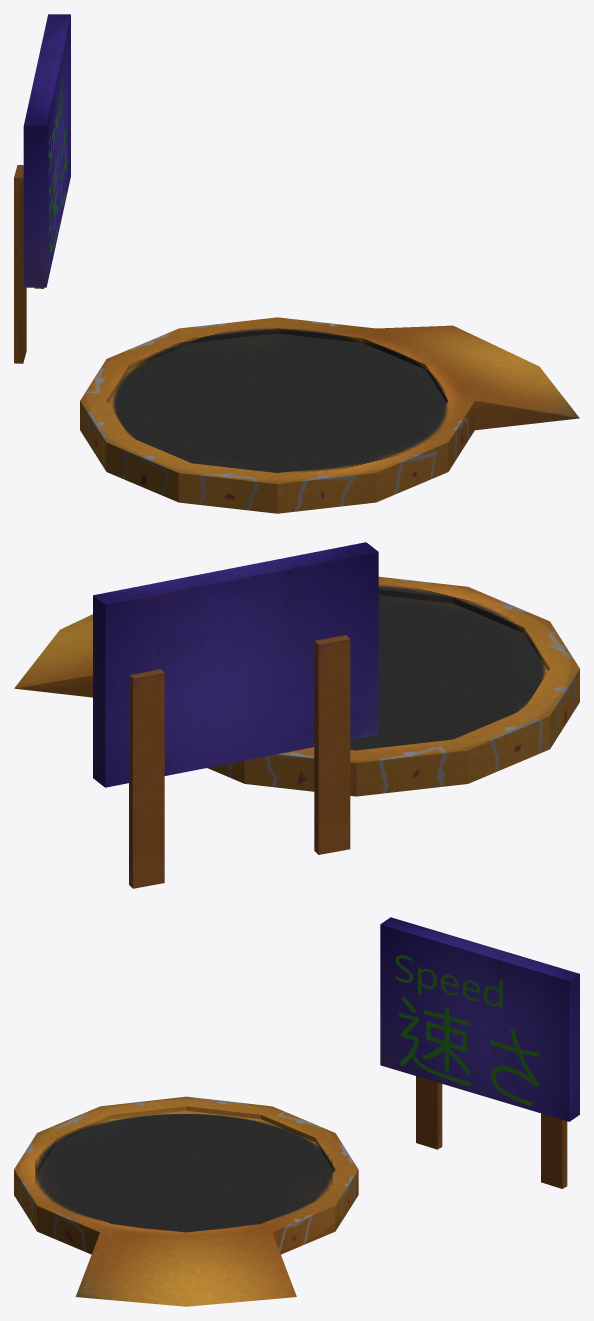
Rendered from Speed.fbx.
3 renders of one model, top to bottom at view 1: azimuth 30°, elevation 25°; view 2: azimuth 150°, elevation 25°; view 3: azimuth 270°, elevation 25°, orthographic. The views are drawn at different scales.
Parts seen in each view (by area): view 1: polySurface9; view 2: polySurface9; view 3: polySurface9.
Boxes of the visible parts, left/top/right/bottom form: polySurface9: left=14, top=14, right=579, bottom=513; polySurface9: left=14, top=542, right=579, bottom=888; polySurface9: left=14, top=917, right=579, bottom=1306.
Bounding box in the file's own units: 6.93 × 3.85 × 8.99.
Materials: 1 (1 with a texture image).
